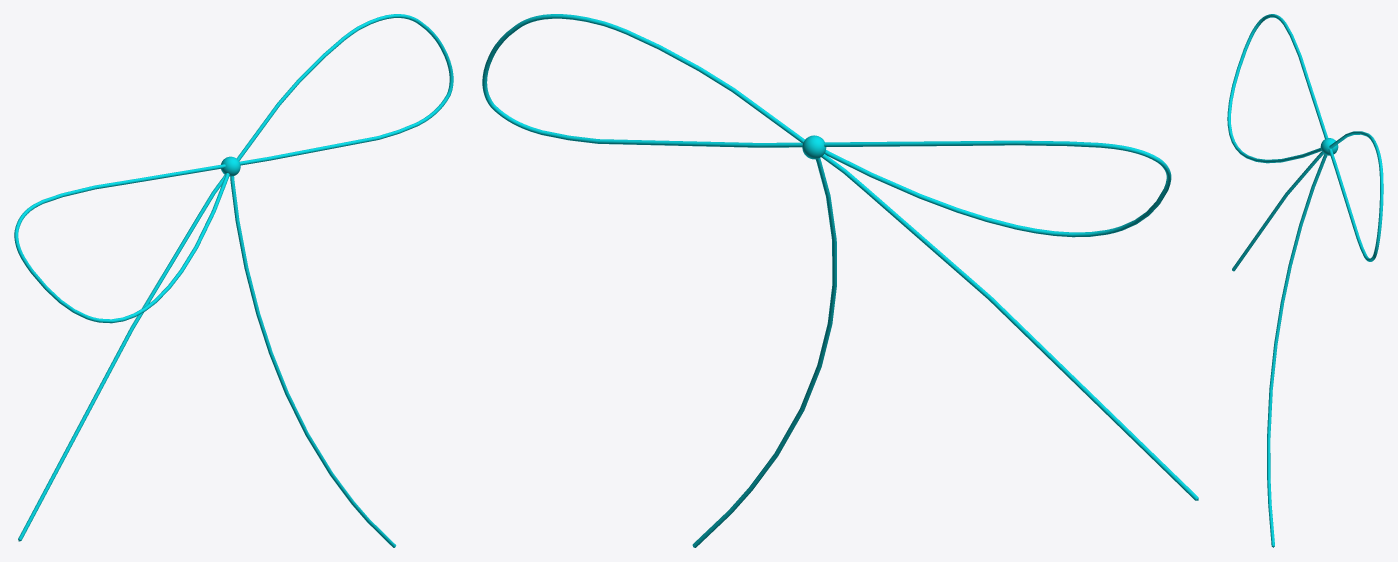
The model's file is bant3.glb.
3 views of the same model, side by side, from view 1: azimuth 30°, elevation 25°; view 2: azimuth 150°, elevation 25°; view 3: azimuth 270°, elevation 25° (orthographic). The views are drawn at different scales.
Visible parts, largest first — view 1: Sphere; view 2: Sphere; view 3: Sphere.
Part boxes in pixels (x1=…): Sphere: x1=14, y1=14, x2=453, y2=547; Sphere: x1=482, y1=14, x2=1198, y2=547; Sphere: x1=1227, y1=14, x2=1383, y2=547.
Size of the model in its own units: 89.56 by 79.07 by 26.59.
